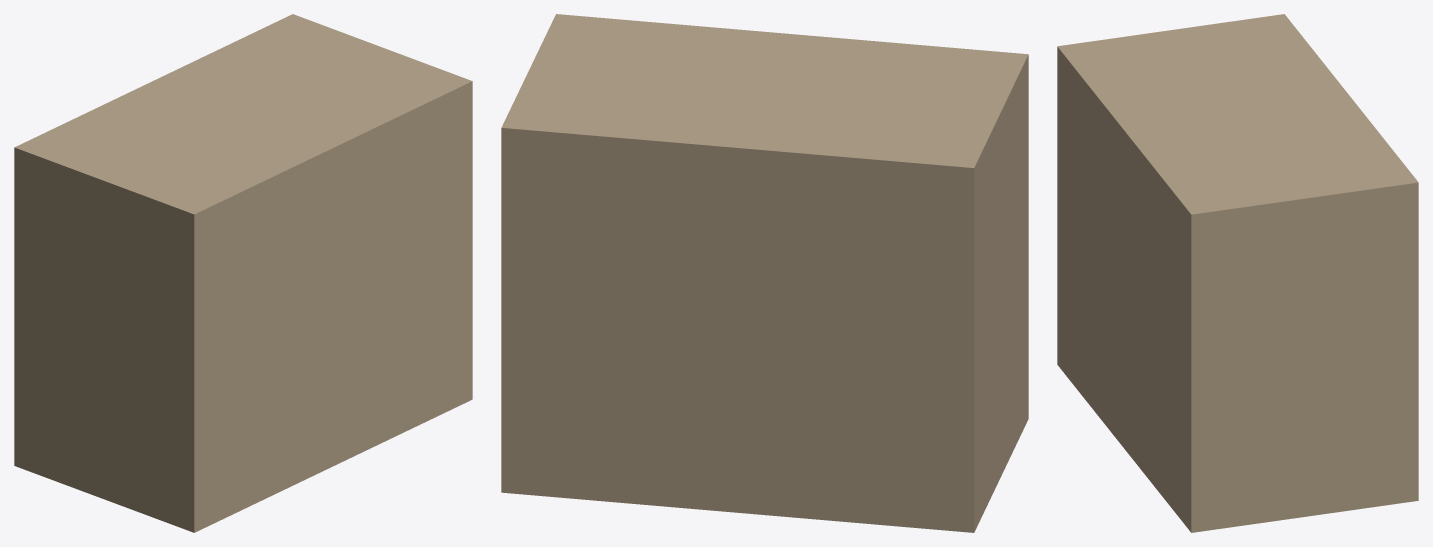
The model's file is bld_100469342.dae.
The picture shows the model from 3 angles, left to right: view 1: azimuth 30°, elevation 25°; view 2: azimuth 150°, elevation 25°; view 3: azimuth 270°, elevation 25°; orthographic projection. The views are drawn at different scales.
Parts seen in each view (by area): view 1: bld_100469342; view 2: bld_100469342; view 3: bld_100469342.
Part boxes in pixels (x1,y1,x2,y2): bld_100469342: [14, 14, 472, 532]; bld_100469342: [501, 14, 1028, 532]; bld_100469342: [1057, 14, 1418, 532].
Bounding box in the file's own units: 10.82 × 8.24 × 8.
